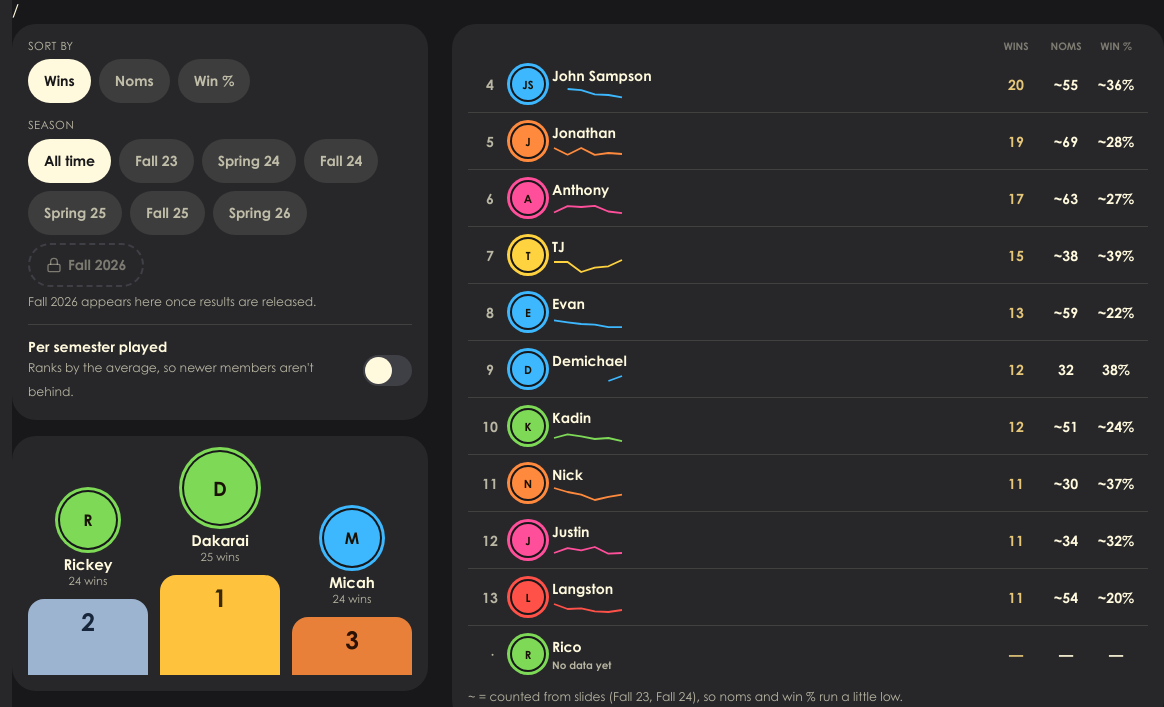
Test: Leaderboard › Per semester played is off by default, ranks by the average when on, and is all-time only
Click the switch named "Per semester played" at (387, 370), box top-left (363, 348), bottom-right (412, 392)
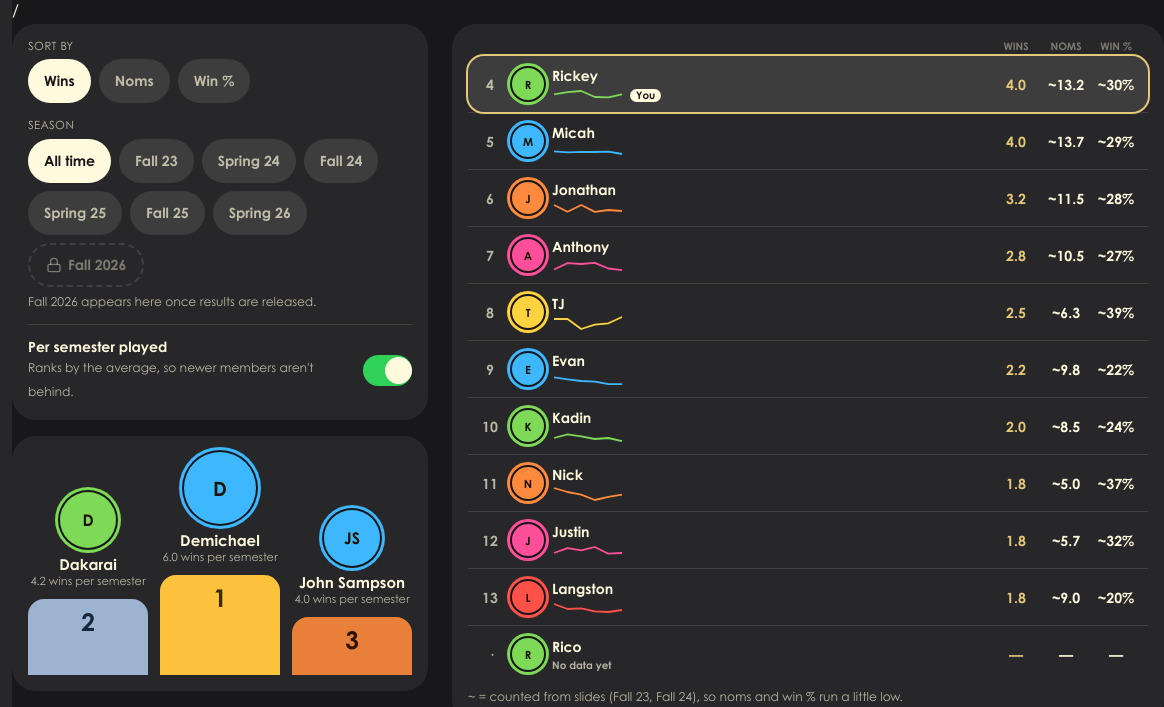
Now the list item "D Demichael 6.0 wins per semester 1" is shown, box top-left (160, 452), bottom-right (280, 675)
Click the button "Win %" at (214, 81), box top-left (178, 59), bottom-right (250, 103)
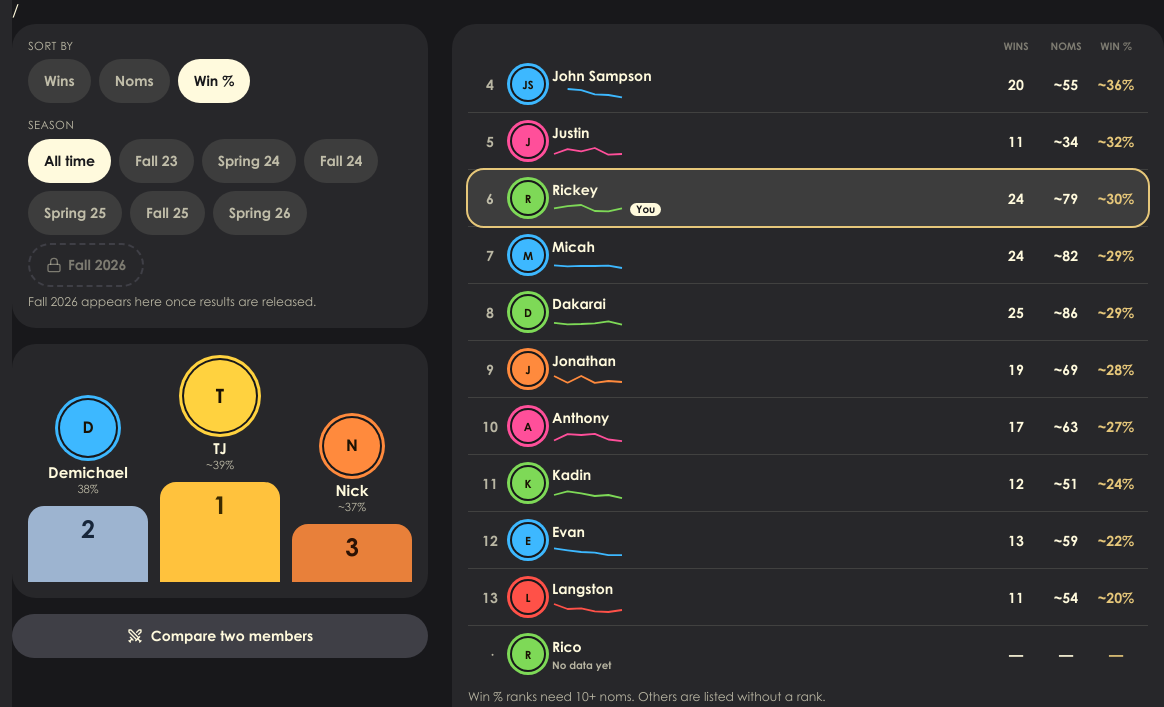
Now the switch is gone
